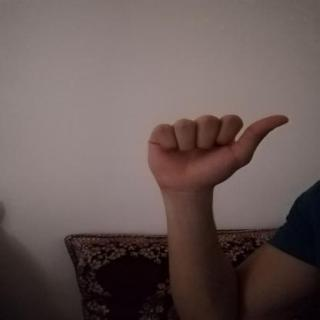DAD: (136, 107, 301, 199)
